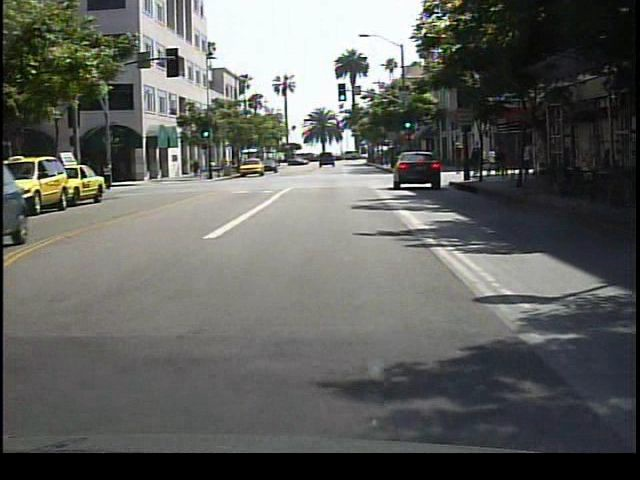person: (449, 138, 466, 181)
